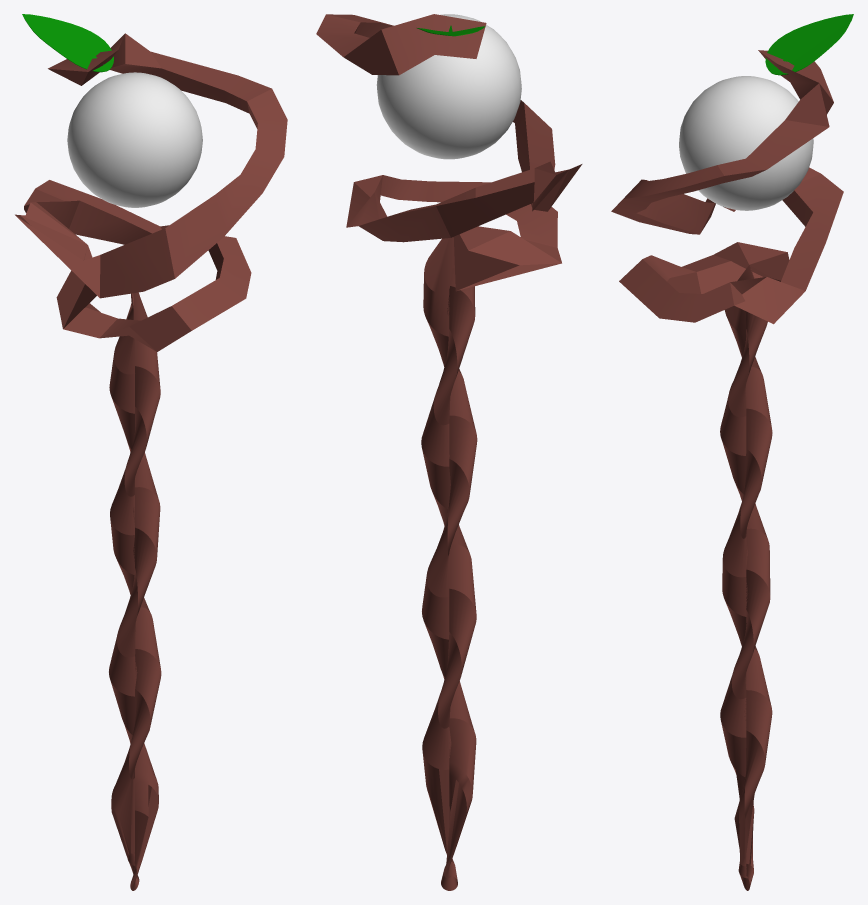
3 views of the same model, side by side, from view 1: azimuth 30°, elevation 25°; view 2: azimuth 150°, elevation 25°; view 3: azimuth 270°, elevation 25° (orthographic). The views are drawn at different scales.
Parts seen in each view (by area): view 1: トーラス.003, 球, 円.001; view 2: トーラス.003, 球; view 3: トーラス.003, 球, 円.001.
Boxes of the visible parts, bbox=[...] form: トーラス.003: bbox=[15, 33, 287, 890]; 球: bbox=[67, 72, 202, 207]; 円.001: bbox=[22, 14, 113, 72]; トーラス.003: bbox=[316, 14, 582, 890]; 球: bbox=[376, 14, 521, 159]; トーラス.003: bbox=[611, 50, 843, 890]; 球: bbox=[679, 76, 813, 210]; 円.001: bbox=[765, 14, 853, 75].
Bounding box in the file's own units: 426 × 1391 × 361.
